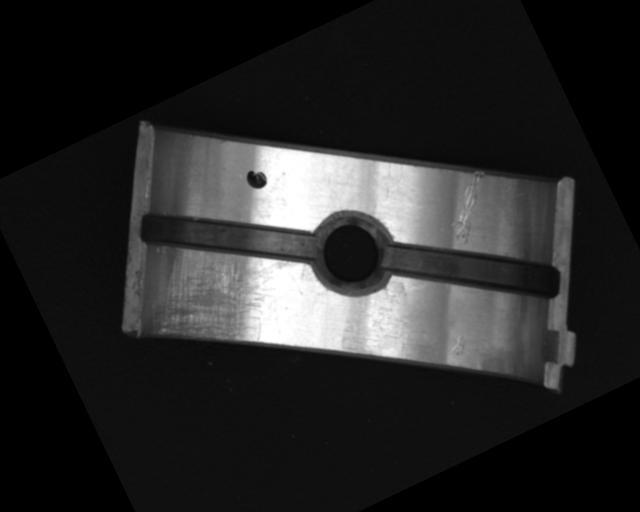blot: (242, 164, 269, 192)
bruise: (443, 332, 470, 360)
gap: (379, 185, 569, 356), (134, 156, 321, 320)
hole: (298, 199, 408, 309)
nick: (431, 166, 508, 248)
scratch: (126, 212, 314, 385)
